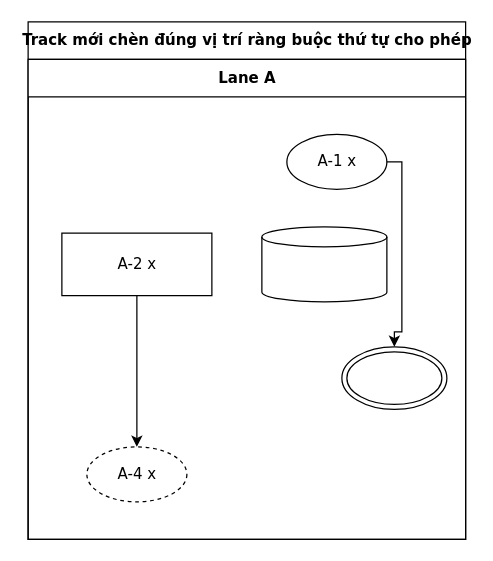
The diagram is 493 pixels wide and 561 high, and some of its shapes have lost their labels. Here are the shapes that lost their labels. From the top down, the centre of each, then its label:
At point 324,264: "d0".
At point 394,377: "A-3 x".
